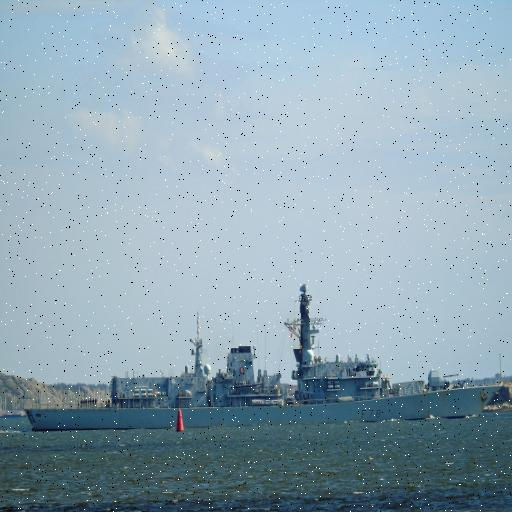Fragata: (22, 276, 506, 437)
